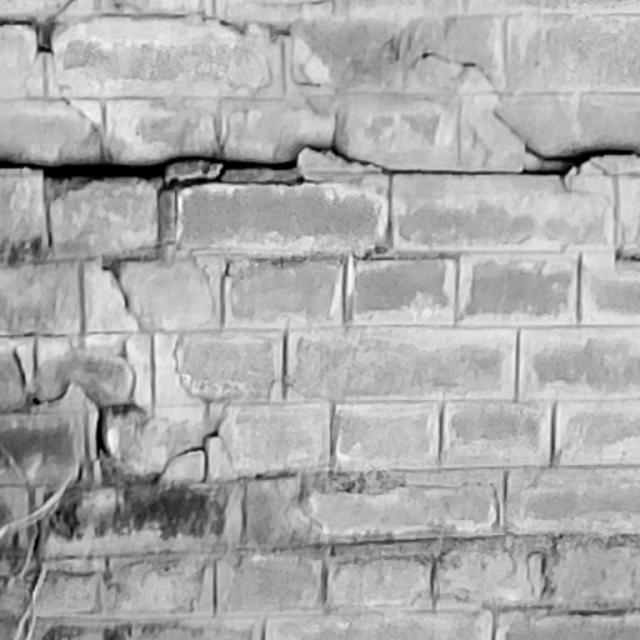crack: (1, 13, 638, 195), (12, 346, 222, 486)
